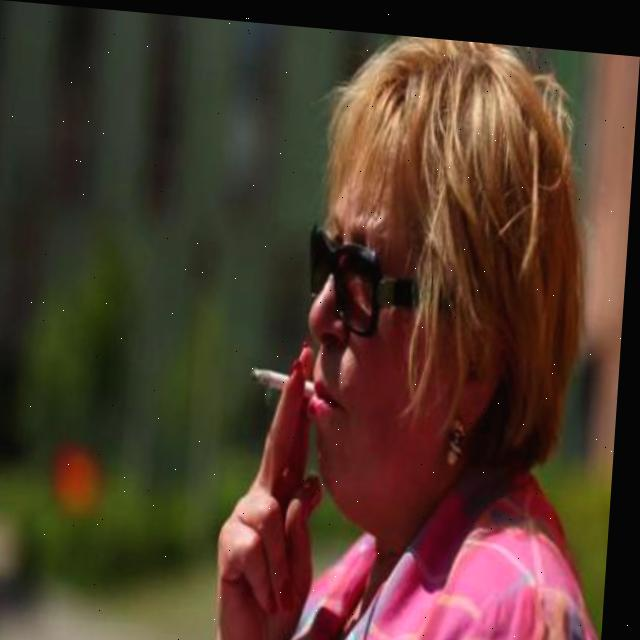cigarette: (253, 362, 324, 395)
